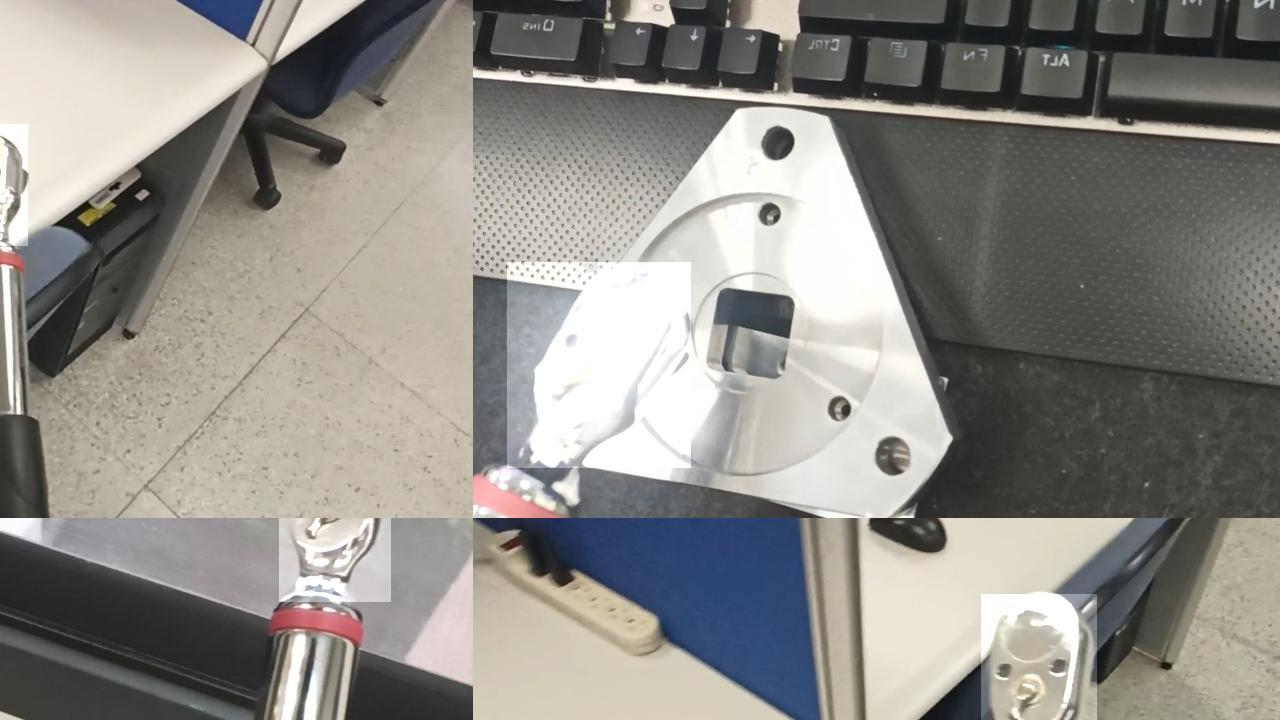Tool: (506, 261, 690, 467), (980, 593, 1096, 720), (278, 518, 390, 601), (0, 123, 27, 245)
